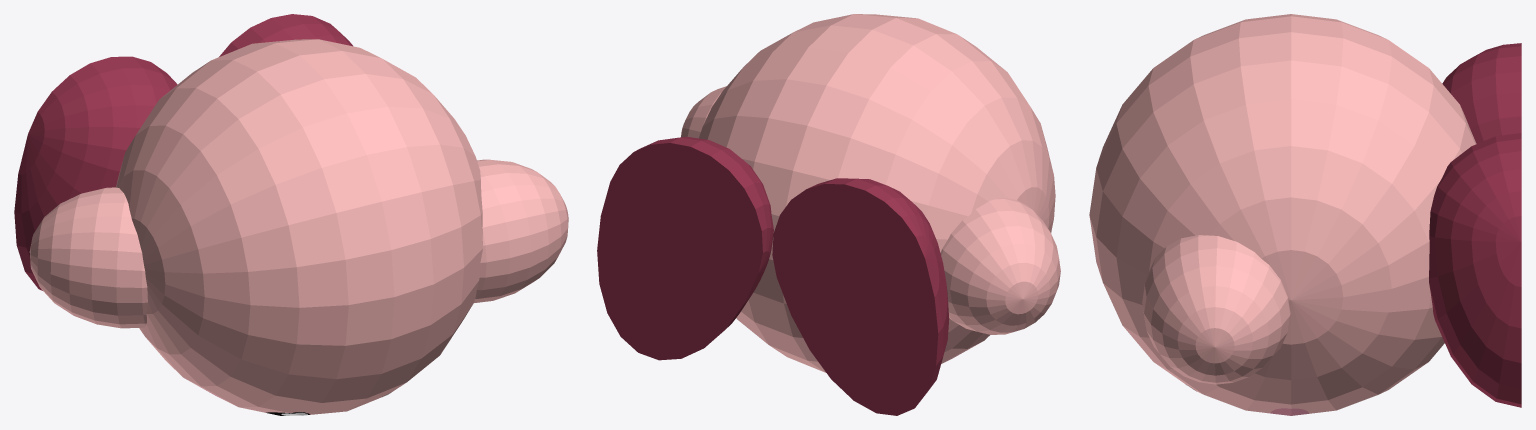
3 renders of one model, left to right at view 1: azimuth 30°, elevation 25°; view 2: azimuth 150°, elevation 25°; view 3: azimuth 270°, elevation 25°, orthographic. The views are drawn at different scales.
Parts seen in each view (by area): view 1: kirby; view 2: kirby; view 3: kirby.
Part boxes in pixels (box(x1,y1,x2,y2)): kirby: box(14, 14, 568, 415); kirby: box(597, 14, 1060, 415); kirby: box(1089, 14, 1521, 415).
Size of the model in its own units: 53.92 by 39.35 by 42.17.
